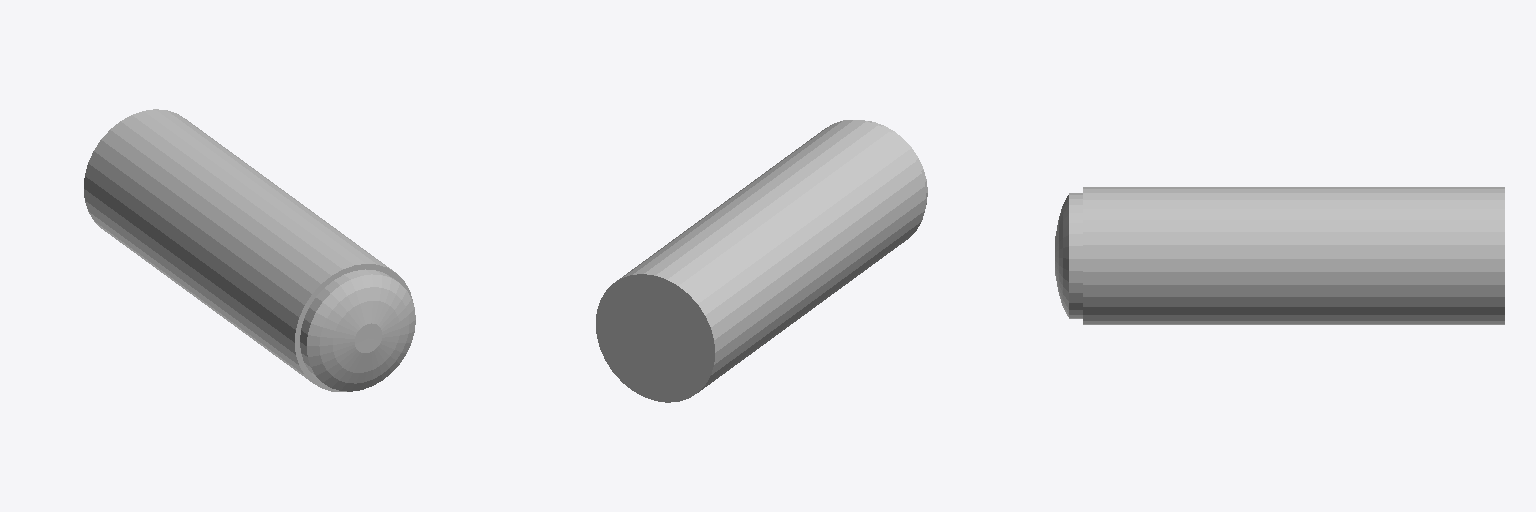
File: Long_Button_Keith.obj
The picture shows the model from 3 angles: view 1: azimuth 30°, elevation 25°; view 2: azimuth 150°, elevation 25°; view 3: azimuth 270°, elevation 25°; orthographic projection.
Visible parts, largest first — view 1: Cylinder.001, Cylinder; view 2: Cylinder.001; view 3: Cylinder.001, Cylinder.
Boxes of the visible parts, box(x1,y1,x2,y2) form: Cylinder.001: box(84, 109, 413, 391); Cylinder: box(300, 269, 415, 391); Cylinder.001: box(596, 120, 925, 402); Cylinder.001: box(1083, 187, 1504, 324); Cylinder: box(1055, 193, 1082, 318).
Size of the model in its own units: 35.65 by 35.65 by 116.